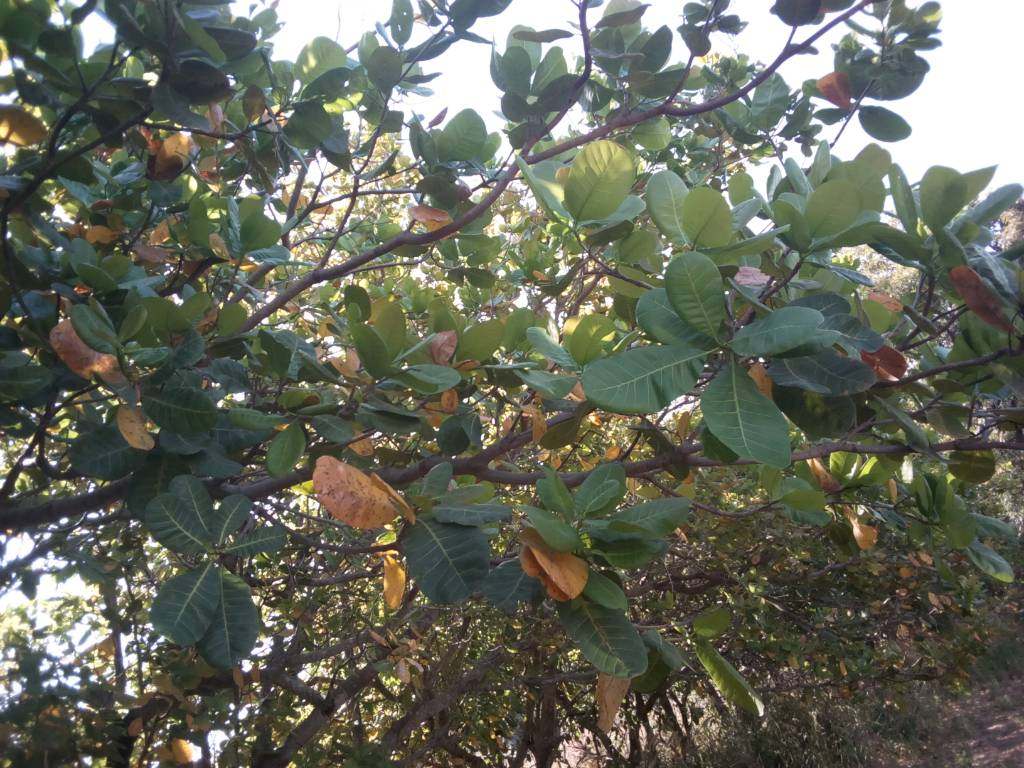Helopeltis anacardii: (580, 346, 715, 409)
